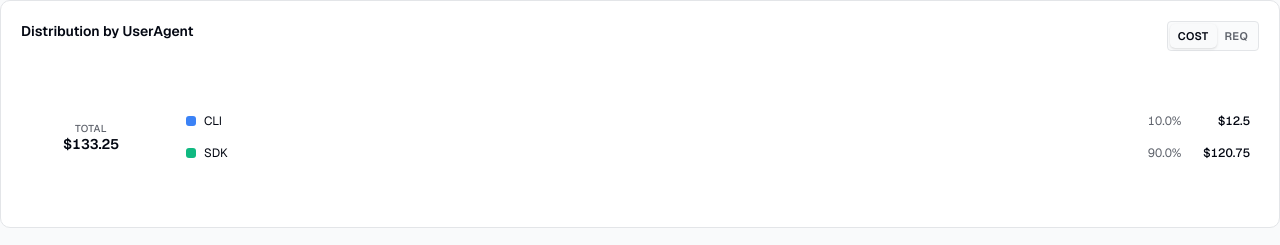
UseragentDistributionDonut › pads legend value cells to the longest formatted request total
This screenshot has width=1280, height=245.
Click the button "req": (1236, 36) [1216,24,1256,48]
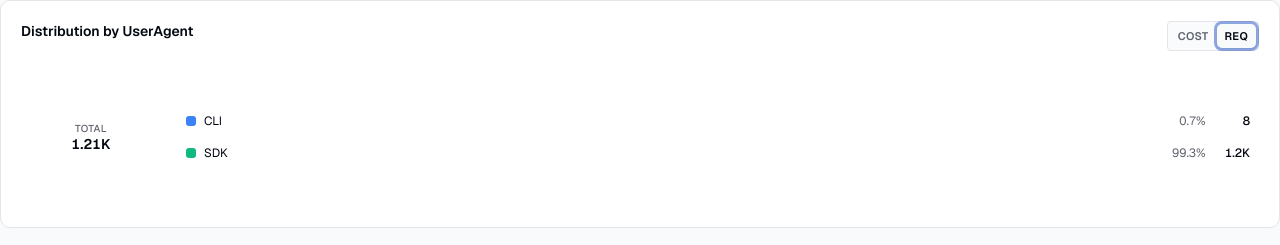
Now the text "8" is shown, box [1243,113,1250,129]
Now the text "1.2K" is shown, box [1225,145,1250,161]
